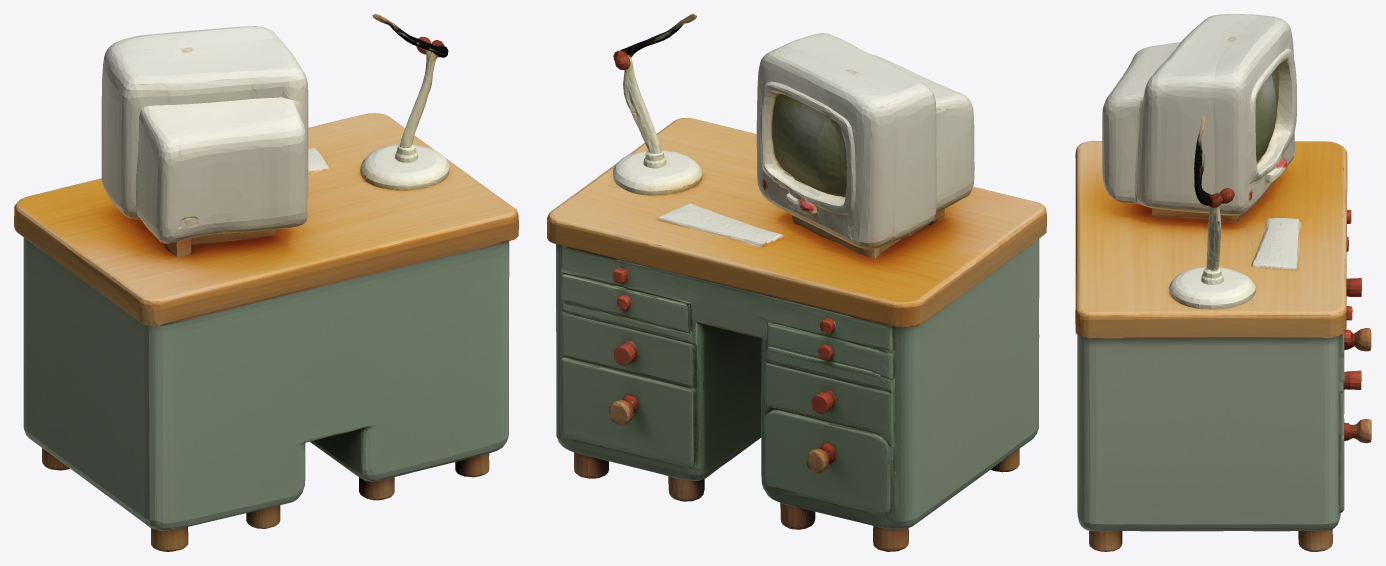
Rendered from desk.glb.
3 renders of one model, left to right at view 1: azimuth 30°, elevation 25°; view 2: azimuth 150°, elevation 25°; view 3: azimuth 270°, elevation 25°, orthographic. The views are drawn at different scales.
Visible parts, largest first — view 1: geometry_0; view 2: geometry_0; view 3: geometry_0.
Boxes of the visible parts, x1,y1,x2,y2 form: geometry_0: (14,14,518,551); geometry_0: (547,14,1046,551); geometry_0: (1075,14,1371,551).
Size of the model in its own units: 0.9165 by 1 by 0.656.
Materials: 1 (1 with a texture image).
